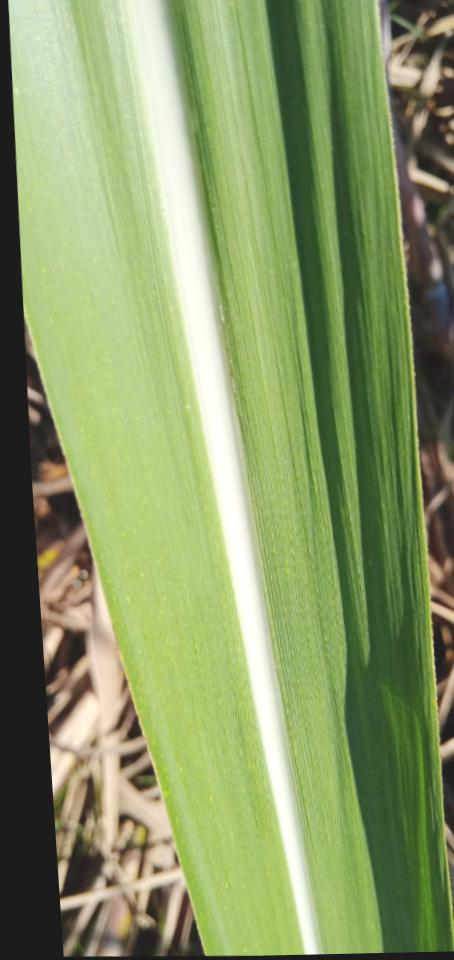Healthy: (10, 0, 454, 955)
